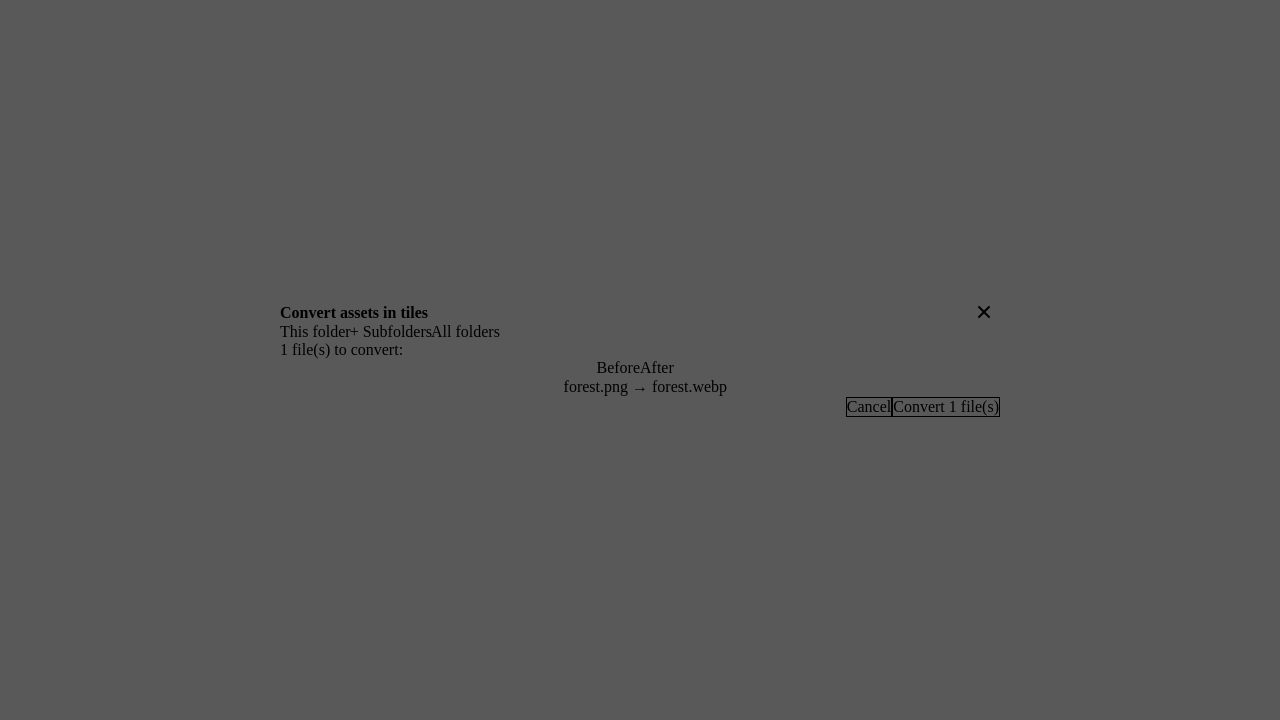
Test: ConvertModal › shows an error and stays open when conversion fails
The width and height of the screenshot is (1280, 720).
Check: the text "1 file(s) to convert:" is shown, box [280,341,403,358]
Click the button "Convert 1 file(s)" at (946, 407), box [892,397,1000,417]
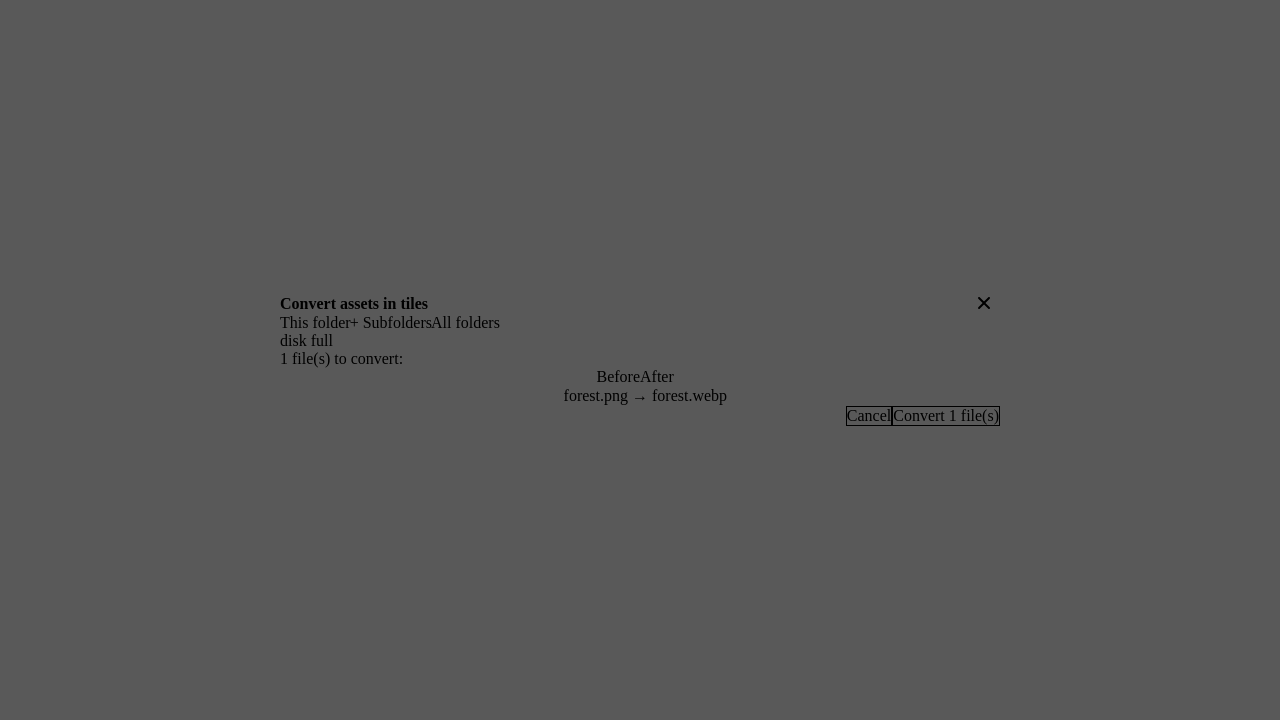
Check: the text "disk full" is shown, box [280,332,333,349]
